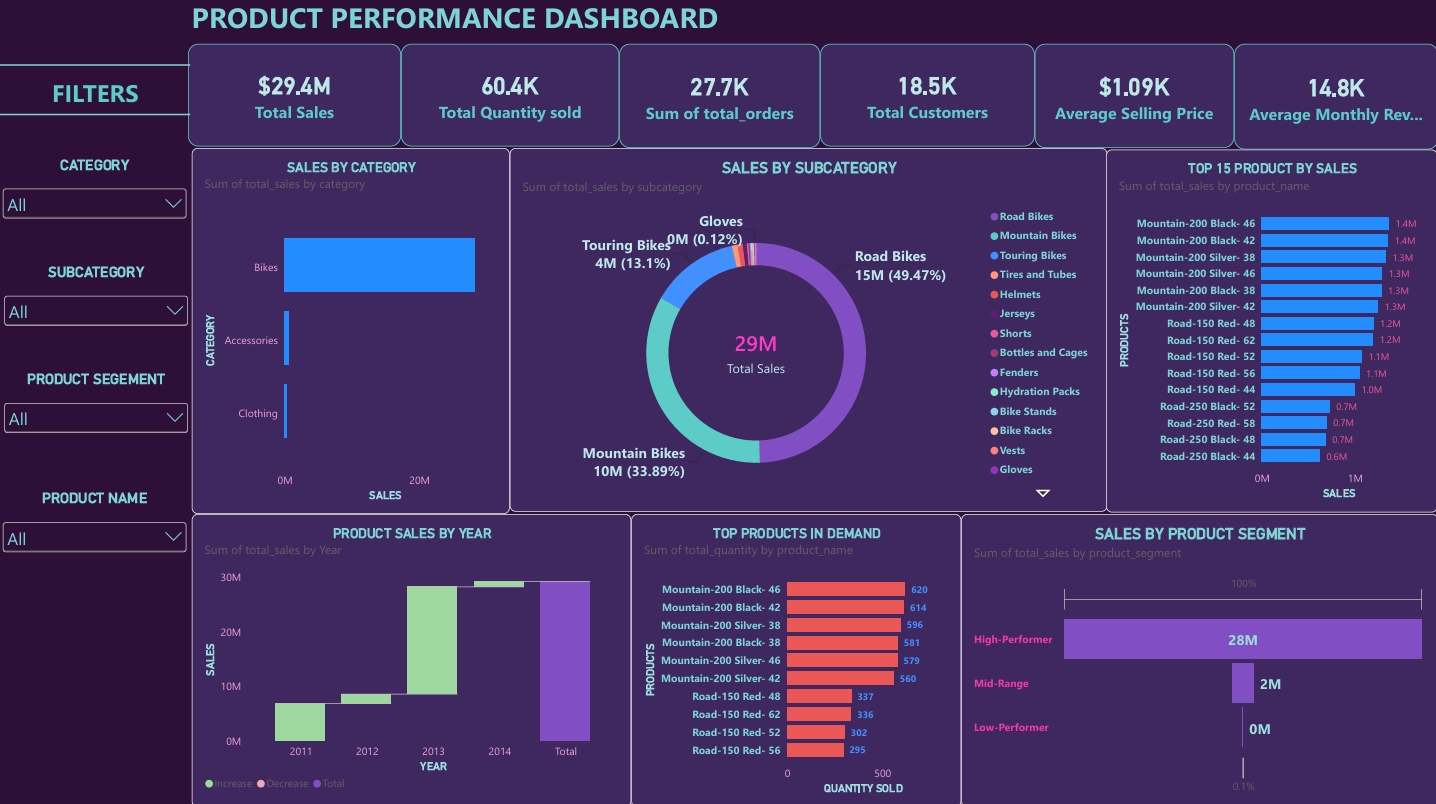

What the dashboard file says about the page in this screenshot:
{"tool":"powerbi","page":{"name":"Page 2","canvas":[1920,1080],"ordinal":1},"visuals":[{"type":"advanceCardE03760C5AB684758B56AA29F9E6C257B","fields":{"mainMeasure":["Sum(gold report_products.total_sales)"]},"box":[252.1,61.3,283.9,136.3],"z":0},{"type":"advanceCardE03760C5AB684758B56AA29F9E6C257B","fields":{"mainMeasure":["Sum(gold report_products.total_quantity)"]},"box":[536,61.3,290.7,136.3],"z":1},{"type":"advanceCardE03760C5AB684758B56AA29F9E6C257B","fields":{"mainMeasure":["Sum(gold report_customers.total_orders)"]},"box":[826.8,61.3,268.1,139],"z":2},{"type":"advanceCardE03760C5AB684758B56AA29F9E6C257B","fields":{"mainMeasure":["Count(gold report_customers.customer_key)"]},"box":[1094.8,61.3,286.2,136.3],"z":3},{"type":"advanceCardE03760C5AB684758B56AA29F9E6C257B","fields":{"mainMeasure":["Avg(gold report_products.avg_selling_price)"]},"box":[1381,61.3,265.7,138.5],"z":4},{"type":"advanceCardE03760C5AB684758B56AA29F9E6C257B","fields":{"mainMeasure":["Avg(gold report_products.avg_monthly_revenue)"]},"box":[1646.7,61.3,272.6,140.8],"z":5},{"type":"slicer","title":"CATEGORY","fields":{"Values":["gold report_products.category"]},"box":[0,211.2,255,84],"z":6},{"type":"donutChart","title":"SALES BY SUBCATEGORY","fields":{"Category":["gold report_products.subcategory"],"Y":["Sum(gold report_products.total_sales)"]},"box":[681.4,199.9,796.1,485.3],"z":8},{"type":"barChart","title":"SALES BY CATEGORY","fields":{"Category":["gold report_products.category"],"Y":["Sum(gold report_products.total_sales)"]},"box":[256.7,199.9,424.7,488.3],"z":9},{"type":"clusteredBarChart","title":"TOP 15 PRODUCT BY SALES","fields":{"Category":["gold report_products.product_name"],"Y":["Sum(gold report_products.total_sales)"]},"box":[1476.3,202.1,441.9,484.1],"z":11},{"type":"waterfallChart","title":"PRODUCT SALES BY YEAR","fields":{"Category":["gold report_products.last_sale_date.Variation.Date Hierarchy.Year"],"Y":["Sum(gold report_products.total_sales)"]},"box":[256.7,688.2,586,390.7],"z":12},{"type":"funnel","title":"SALES BY PRODUCT SEGMENT","fields":{"Category":["gold report_products.product_segment"],"Y":["Sum(gold report_products.total_sales)"]},"box":[1283.3,688.2,636,390.7],"z":13},{"type":"clusteredBarChart","title":"TOP  PRODUCTS IN DEMAND","fields":{"Category":["gold report_products.product_name"],"Y":["Sum(gold report_products.total_quantity)"]},"box":[842.7,688.2,440.6,390.7],"z":14},{"type":"slicer","title":"SUBCATEGORY","fields":{"Values":["gold report_products.subcategory"]},"box":[2.3,354.3,255,84],"z":15},{"type":"textbox","box":[256.7,0,917.6,56.8],"z":16},{"type":"slicer","title":"PRODUCT SEGEMENT","fields":{"Values":["gold report_products.product_segment"]},"box":[2.3,497.4,255,84],"z":17},{"type":"slicer","title":"PRODUCT NAME","fields":{"Values":["gold report_products.product_name"]},"box":[0,656.4,255,84],"z":18},{"type":"shape","box":[0,75,255,29],"z":19},{"type":"shape","box":[0,140.8,255,29],"z":20},{"type":"textbox","box":[0,104.5,256.7,50],"z":21}]}

Visuals, with their boxes in screenshot pixels (x1, y1, x2, y2), scaled from the page's 1920x1080 canvas onto the 1436x804 screenshot:
advanceCardE03760C5AB684758B56AA29F9E6C257B - Sum(gold report_products.total_sales): x1=189 y1=46 x2=401 y2=147
advanceCardE03760C5AB684758B56AA29F9E6C257B - Sum(gold report_products.total_quantity): x1=401 y1=46 x2=618 y2=147
advanceCardE03760C5AB684758B56AA29F9E6C257B - Sum(gold report_customers.total_orders): x1=618 y1=46 x2=819 y2=149
advanceCardE03760C5AB684758B56AA29F9E6C257B - Count(gold report_customers.customer_key): x1=819 y1=46 x2=1033 y2=147
advanceCardE03760C5AB684758B56AA29F9E6C257B - Avg(gold report_products.avg_selling_price): x1=1033 y1=46 x2=1232 y2=149
advanceCardE03760C5AB684758B56AA29F9E6C257B - Avg(gold report_products.avg_monthly_revenue): x1=1232 y1=46 x2=1435 y2=150
"CATEGORY" slicer: x1=0 y1=157 x2=191 y2=220
"SALES BY SUBCATEGORY" donutChart: x1=510 y1=149 x2=1105 y2=510
"SALES BY CATEGORY" barChart: x1=192 y1=149 x2=510 y2=512
"TOP 15 PRODUCT BY SALES" clusteredBarChart: x1=1104 y1=150 x2=1435 y2=511
"PRODUCT SALES BY YEAR" waterfallChart: x1=192 y1=512 x2=630 y2=803
"SALES BY PRODUCT SEGMENT" funnel: x1=960 y1=512 x2=1435 y2=803
"TOP  PRODUCTS IN DEMAND" clusteredBarChart: x1=630 y1=512 x2=960 y2=803
"SUBCATEGORY" slicer: x1=2 y1=264 x2=192 y2=326
textbox: x1=192 y1=0 x2=878 y2=42
"PRODUCT SEGEMENT" slicer: x1=2 y1=370 x2=192 y2=433
"PRODUCT NAME" slicer: x1=0 y1=489 x2=191 y2=551
shape: x1=0 y1=56 x2=191 y2=77
shape: x1=0 y1=105 x2=191 y2=126
textbox: x1=0 y1=78 x2=192 y2=115
